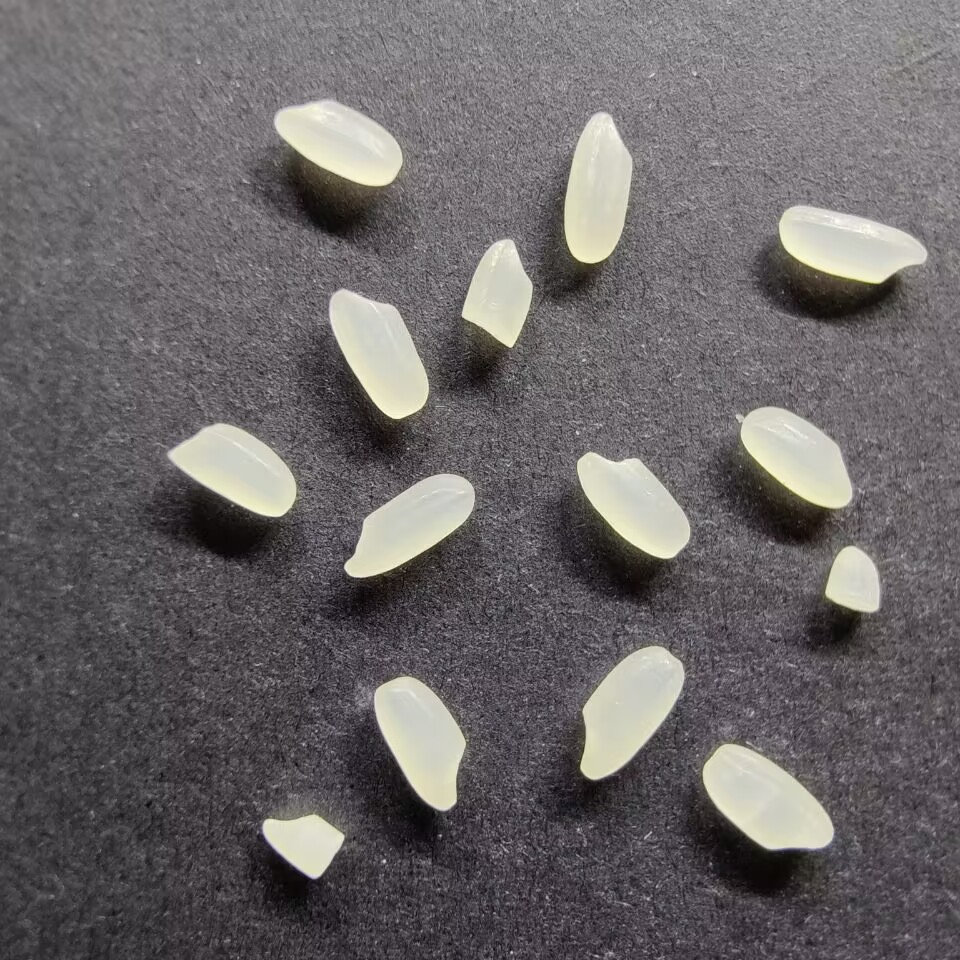broken: (455, 236, 537, 349), (260, 812, 345, 882), (823, 542, 881, 616)
rice: (701, 741, 836, 853), (341, 470, 478, 580), (578, 645, 685, 782), (328, 285, 429, 422), (573, 449, 694, 562), (371, 675, 468, 813), (164, 421, 297, 520), (777, 201, 929, 286), (270, 97, 404, 187), (740, 405, 855, 509), (562, 107, 633, 265)
